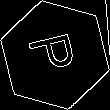P_E: (26, 31, 84, 79)
